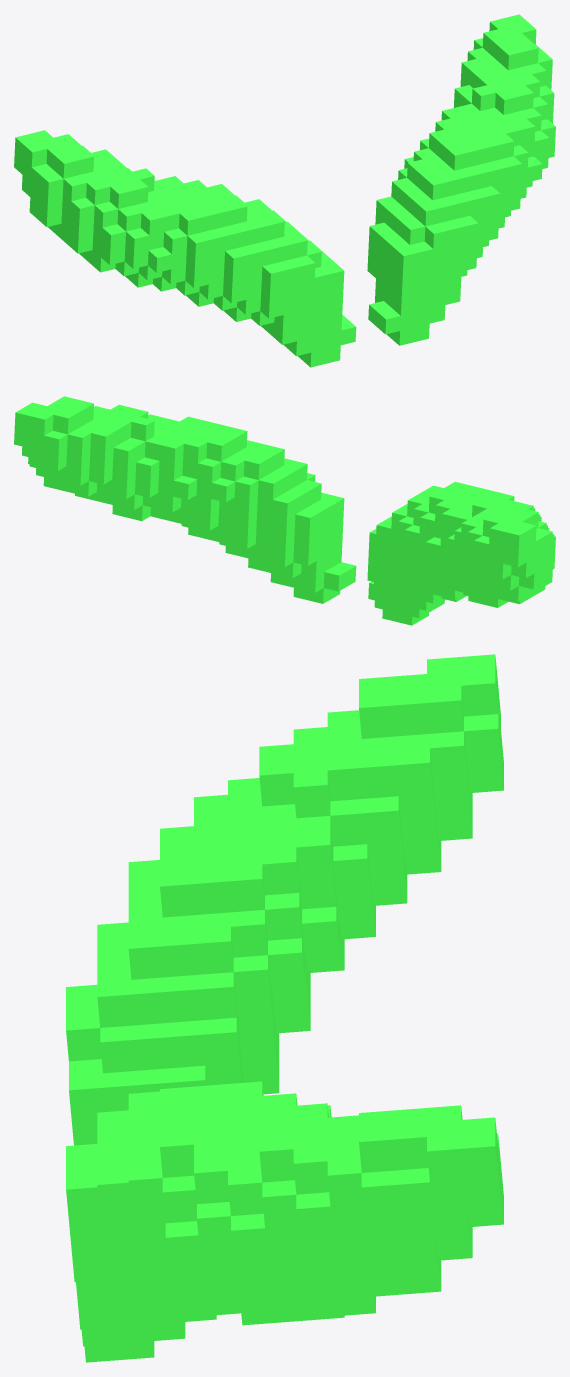
File: lime-green.gltf
The picture shows the model from 3 angles, top to bottom: view 1: azimuth 30°, elevation 25°; view 2: azimuth 150°, elevation 25°; view 3: azimuth 270°, elevation 25°; orthographic projection. The views are drawn at different scales.
Parts seen in each view (by area): view 1: 眉毛.1; view 2: 眉毛.1; view 3: 眉毛.1.
Boxes of the visible parts, x1,y1,x2,y2 form: 眉毛.1: [14, 14, 555, 367]; 眉毛.1: [14, 396, 555, 625]; 眉毛.1: [66, 654, 503, 1362].
Size of the model in its own units: 2.72 by 1.04 by 1.02.
